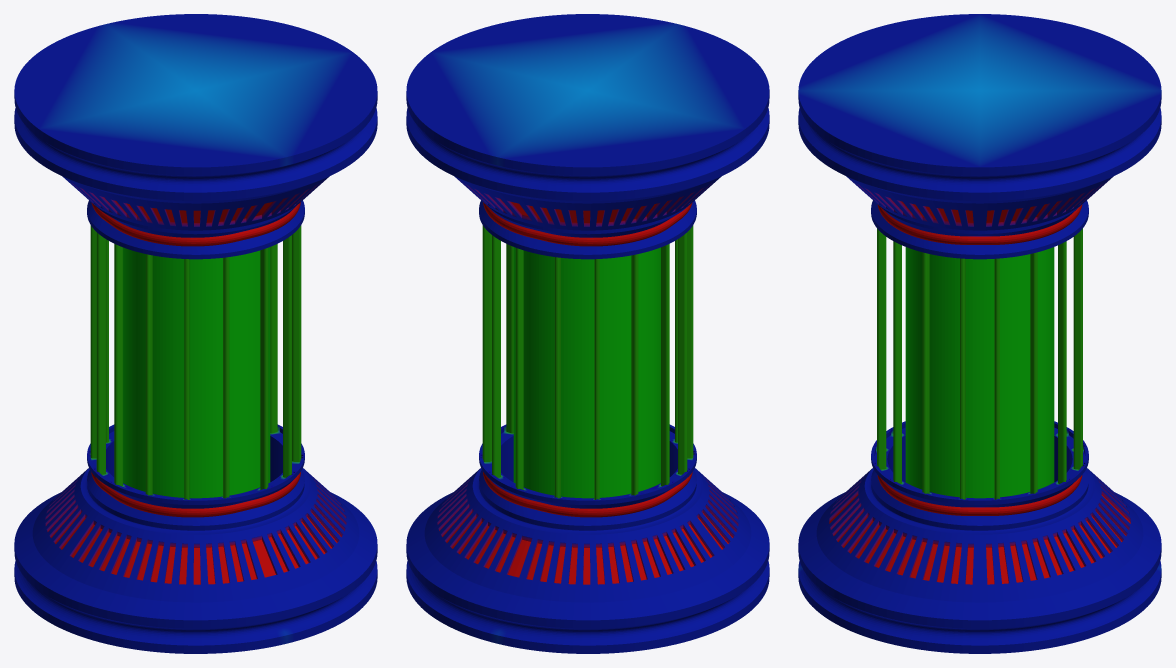
File: powersource.fbx
3 renders of one model, left to right at view 1: azimuth 30°, elevation 25°; view 2: azimuth 150°, elevation 25°; view 3: azimuth 270°, elevation 25°, orthographic.
Visible parts, largest first — view 1: Cylinder; view 2: Cylinder; view 3: Cylinder.
Boxes of the visible parts, x1,y1,x2,y2 form: Cylinder: [14, 14, 377, 653]; Cylinder: [406, 14, 769, 653]; Cylinder: [798, 14, 1161, 653].
Size of the model in its own units: 397 by 588 by 397.
